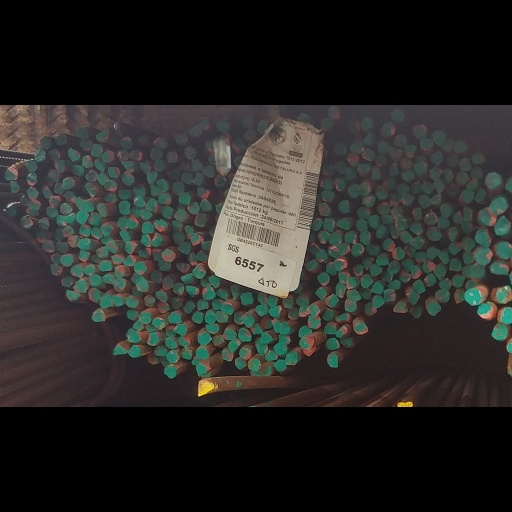dipstick: (476, 173, 496, 204), (474, 239, 493, 271), (495, 185, 510, 224), (463, 268, 484, 294), (491, 152, 507, 186), (473, 210, 492, 238), (484, 114, 501, 142), (478, 336, 495, 363), (496, 306, 511, 336), (492, 264, 509, 290), (495, 232, 510, 261), (425, 332, 442, 356), (466, 311, 480, 340), (494, 372, 508, 401), (380, 28, 395, 55), (426, 206, 442, 231), (357, 129, 373, 154), (315, 281, 331, 306), (268, 340, 285, 363), (352, 366, 368, 390), (198, 465, 211, 494), (343, 211, 358, 236), (409, 199, 425, 222), (446, 206, 460, 232), (317, 164, 332, 188), (435, 311, 450, 335), (500, 342, 512, 372), (155, 125, 170, 149), (319, 122, 335, 144), (181, 283, 197, 305), (326, 420, 339, 447), (407, 312, 420, 339), (413, 32, 427, 57), (84, 129, 98, 154), (470, 78, 485, 101), (324, 319, 339, 342), (393, 333, 408, 356), (171, 128, 186, 151), (332, 64, 349, 84), (158, 151, 175, 171), (391, 5, 404, 31), (351, 233, 364, 259), (412, 296, 425, 322), (102, 74, 115, 100), (99, 317, 112, 343), (198, 380, 211, 406), (409, 223, 425, 244), (319, 144, 335, 165), (285, 417, 299, 441), (259, 440, 275, 461), (253, 397, 267, 421), (237, 379, 251, 403), (395, 189, 410, 211), (382, 311, 397, 333), (149, 72, 164, 94), (121, 92, 136, 114), (63, 311, 78, 333), (135, 297, 150, 319), (431, 42, 444, 67), (240, 317, 253, 342), (229, 301, 241, 328), (87, 307, 99, 334), (458, 88, 472, 111), (337, 191, 351, 214), (154, 193, 168, 216), (69, 100, 85, 120), (69, 272, 85, 292), (370, 100, 381, 129), (297, 14, 312, 35), (199, 160, 214, 181), (91, 347, 106, 368), (388, 69, 401, 93), (396, 129, 409, 153), (382, 224, 395, 248), (334, 122, 347, 146), (221, 410, 234, 434), (241, 352, 254, 376), (166, 72, 178, 98), (126, 322, 138, 348), (215, 348, 228, 372), (345, 82, 359, 104), (388, 149, 402, 171), (377, 162, 391, 184), (337, 161, 351, 183), (266, 322, 280, 344), (47, 106, 61, 128), (173, 368, 187, 390), (346, 313, 363, 331), (429, 102, 441, 127), (438, 244, 450, 269), (335, 303, 347, 328), (174, 49, 189, 69), (91, 64, 103, 89), (195, 440, 210, 460), (470, 102, 483, 125), (438, 166, 451, 189), (425, 181, 438, 204), (418, 154, 431, 177), (323, 192, 336, 215), (336, 372, 349, 395), (307, 335, 320, 358), (308, 356, 321, 379), (234, 426, 247, 449), (96, 166, 109, 189), (117, 161, 130, 184), (78, 226, 91, 249), (60, 251, 73, 274), (162, 244, 175, 267), (454, 309, 465, 336), (350, 61, 364, 82), (361, 73, 375, 94), (41, 229, 55, 250), (119, 211, 133, 232), (73, 295, 87, 316), (146, 420, 160, 441), (462, 248, 474, 272), (344, 105, 356, 129), (338, 233, 350, 257), (68, 72, 80, 96), (150, 279, 162, 303), (437, 189, 450, 211), (376, 133, 387, 159), (360, 211, 371, 237), (311, 189, 322, 215), (366, 236, 379, 258), (369, 269, 382, 291), (325, 265, 338, 287), (360, 310, 373, 332), (323, 345, 336, 367), (273, 405, 286, 427), (328, 2, 341, 24), (218, 24, 231, 46), (93, 91, 106, 113), (141, 197, 154, 219), (171, 300, 184, 322), (209, 284, 220, 310), (61, 289, 74, 311), (142, 321, 155, 343), (203, 349, 216, 371), (151, 360, 164, 382), (357, 172, 372, 191), (322, 370, 337, 389), (75, 38, 90, 57), (401, 152, 415, 172), (381, 183, 395, 203), (328, 216, 342, 236), (351, 269, 365, 289), (334, 261, 348, 281), (220, 333, 234, 353), (196, 139, 210, 159), (106, 103, 120, 123), (62, 146, 76, 166), (49, 270, 63, 290), (172, 215, 186, 235), (134, 267, 148, 287), (102, 286, 116, 306), (88, 288, 102, 308), (155, 333, 169, 353), (113, 406, 127, 426), (196, 410, 210, 430), (474, 142, 486, 165), (461, 143, 473, 166), (457, 111, 469, 134), (404, 65, 416, 88), (360, 21, 372, 44), (349, 27, 361, 50), (387, 97, 399, 120), (337, 281, 349, 304), (452, 286, 464, 309), (288, 341, 300, 364), (40, 136, 52, 159), (38, 191, 50, 214), (126, 189, 138, 212), (193, 271, 205, 294), (422, 127, 433, 152), (195, 183, 206, 208), (122, 109, 133, 134), (420, 55, 433, 76), (447, 133, 460, 154), (378, 60, 391, 81), (372, 322, 385, 343), (344, 330, 357, 351), (326, 395, 339, 416), (169, 105, 182, 126), (154, 54, 167, 75), (172, 195, 185, 216), (104, 146, 117, 167), (113, 272, 126, 293), (126, 346, 139, 367), (321, 102, 336, 120), (336, 351, 351, 369), (174, 178, 189, 196), (401, 108, 415, 127), (356, 100, 370, 119), (355, 192, 369, 211), (54, 49, 68, 68), (52, 95, 66, 114), (176, 232, 190, 251), (184, 306, 198, 325), (201, 311, 215, 330), (127, 384, 141, 403), (447, 83, 459, 105), (433, 125, 445, 147), (363, 44, 375, 66), (453, 179, 464, 203), (463, 174, 474, 198), (462, 223, 474, 245), (448, 232, 460, 254), (376, 204, 388, 226), (434, 271, 445, 295), (348, 133, 359, 157), (308, 232, 320, 254), (274, 431, 286, 453), (233, 61, 245, 83), (191, 90, 203, 112), (188, 164, 200, 186), (191, 217, 203, 239), (27, 139, 39, 161), (134, 153, 146, 175), (146, 158, 157, 182), (140, 219, 151, 243), (192, 350, 204, 372), (428, 151, 441, 171), (377, 254, 390, 274), (25, 93, 38, 113), (55, 231, 68, 251), (123, 254, 136, 274), (155, 313, 168, 333), (169, 351, 182, 371), (127, 408, 140, 428), (450, 261, 461, 284), (315, 244, 326, 267), (328, 236, 339, 259), (271, 363, 282, 386), (257, 27, 268, 50), (79, 200, 90, 223), (150, 218, 161, 241), (114, 294, 125, 317), (461, 200, 473, 221), (412, 174, 424, 195), (362, 154, 376, 172), (411, 272, 423, 293), (398, 281, 410, 302), (359, 291, 373, 309), (184, 70, 196, 91), (181, 112, 193, 133), (178, 149, 192, 167), (135, 52, 149, 70), (54, 132, 66, 153), (101, 199, 113, 220), (123, 232, 135, 253), (157, 263, 171, 281), (161, 290, 173, 311), (211, 328, 223, 349), (90, 253, 104, 271), (147, 387, 159, 408), (154, 408, 168, 426), (178, 390, 190, 411), (414, 99, 427, 118), (365, 334, 378, 353), (314, 309, 327, 328), (297, 322, 310, 341), (79, 56, 92, 75), (4, 110, 17, 129), (26, 116, 39, 135), (27, 173, 40, 192), (140, 176, 153, 195), (98, 264, 111, 283), (110, 253, 123, 272), (170, 327, 183, 346), (164, 394, 177, 413), (163, 443, 176, 462), (404, 236, 415, 258), (426, 241, 437, 263), (334, 93, 345, 115), (381, 279, 392, 301), (279, 367, 290, 389), (256, 317, 267, 339), (35, 74, 46, 96), (77, 179, 88, 201), (400, 89, 412, 109), (369, 185, 379, 209), (318, 212, 328, 236), (388, 266, 400, 286), (281, 324, 293, 344), (239, 411, 251, 431), (224, 381, 236, 401), (117, 75, 129, 95), (45, 172, 57, 192), (50, 250, 62, 270), (181, 411, 193, 431), (300, 394, 314, 411), (438, 295, 452, 312), (48, 155, 62, 172), (389, 201, 398, 227), (305, 261, 318, 279), (298, 375, 311, 393), (277, 387, 290, 405), (248, 432, 261, 450), (227, 400, 240, 418), (96, 44, 109, 62), (62, 124, 75, 142), (195, 330, 208, 348), (431, 77, 442, 98), (399, 212, 410, 233), (424, 285, 435, 306), (234, 351, 245, 372), (217, 311, 228, 332), (150, 134, 161, 155), (139, 95, 150, 116), (199, 289, 210, 310), (443, 106, 453, 129), (411, 128, 421, 151), (200, 19, 210, 42), (82, 84, 92, 107), (117, 189, 127, 212), (152, 243, 162, 266), (452, 61, 464, 80), (394, 49, 406, 68), (373, 83, 385, 102), (391, 172, 403, 191), (214, 390, 226, 409), (154, 94, 166, 113), (28, 161, 40, 180), (50, 75, 62, 94), (88, 182, 100, 201), (91, 208, 103, 227), (132, 139, 147, 154), (340, 395, 353, 412), (206, 371, 219, 388), (130, 77, 143, 94), (118, 142, 131, 159), (59, 166, 72, 183), (83, 272, 96, 289), (138, 352, 151, 369), (384, 122, 395, 142), (394, 241, 405, 261), (401, 260, 412, 280), (346, 291, 357, 311), (298, 339, 309, 359), (322, 23, 333, 43), (202, 102, 213, 122), (215, 119, 225, 141), (162, 171, 172, 193), (22, 189, 33, 209), (7, 171, 18, 191), (97, 114, 108, 134), (67, 222, 78, 242), (107, 231, 118, 251), (113, 321, 124, 341), (165, 373, 175, 395), (466, 125, 478, 143), (362, 259, 374, 277), (119, 55, 131, 73), (85, 110, 97, 128), (66, 183, 75, 207), (82, 163, 94, 181), (77, 245, 89, 263), (131, 308, 143, 326), (167, 416, 179, 434), (442, 57, 452, 78), (414, 82, 428, 97), (372, 300, 382, 321), (40, 52, 50, 73), (95, 241, 109, 256), (184, 333, 194, 354), (423, 264, 434, 283), (261, 361, 272, 380), (245, 42, 256, 61), (197, 250, 208, 269), (106, 129, 117, 148), (388, 298, 401, 314), (176, 267, 189, 283), (266, 417, 278, 434), (255, 339, 267, 356), (179, 94, 191, 111), (146, 111, 158, 128), (175, 164, 187, 181), (100, 222, 112, 239), (251, 372, 261, 392), (293, 303, 304, 321), (243, 20, 254, 38), (194, 114, 203, 136), (184, 204, 193, 226), (201, 229, 212, 247), (55, 186, 66, 204), (139, 241, 150, 259), (188, 250, 197, 272), (189, 36, 201, 52), (233, 87, 243, 106), (63, 204, 73, 223), (159, 426, 169, 445), (411, 344, 422, 361), (414, 249, 424, 267), (261, 388, 273, 403), (303, 411, 314, 427), (75, 158, 86, 174), (191, 427, 202, 443), (208, 60, 217, 79), (36, 214, 45, 233), (55, 209, 64, 228), (42, 122, 52, 139), (131, 172, 141, 188), (113, 31, 125, 44), (132, 287, 143, 301), (11, 132, 20, 149), (145, 372, 157, 384), (134, 366, 144, 380), (251, 450, 261, 462)
